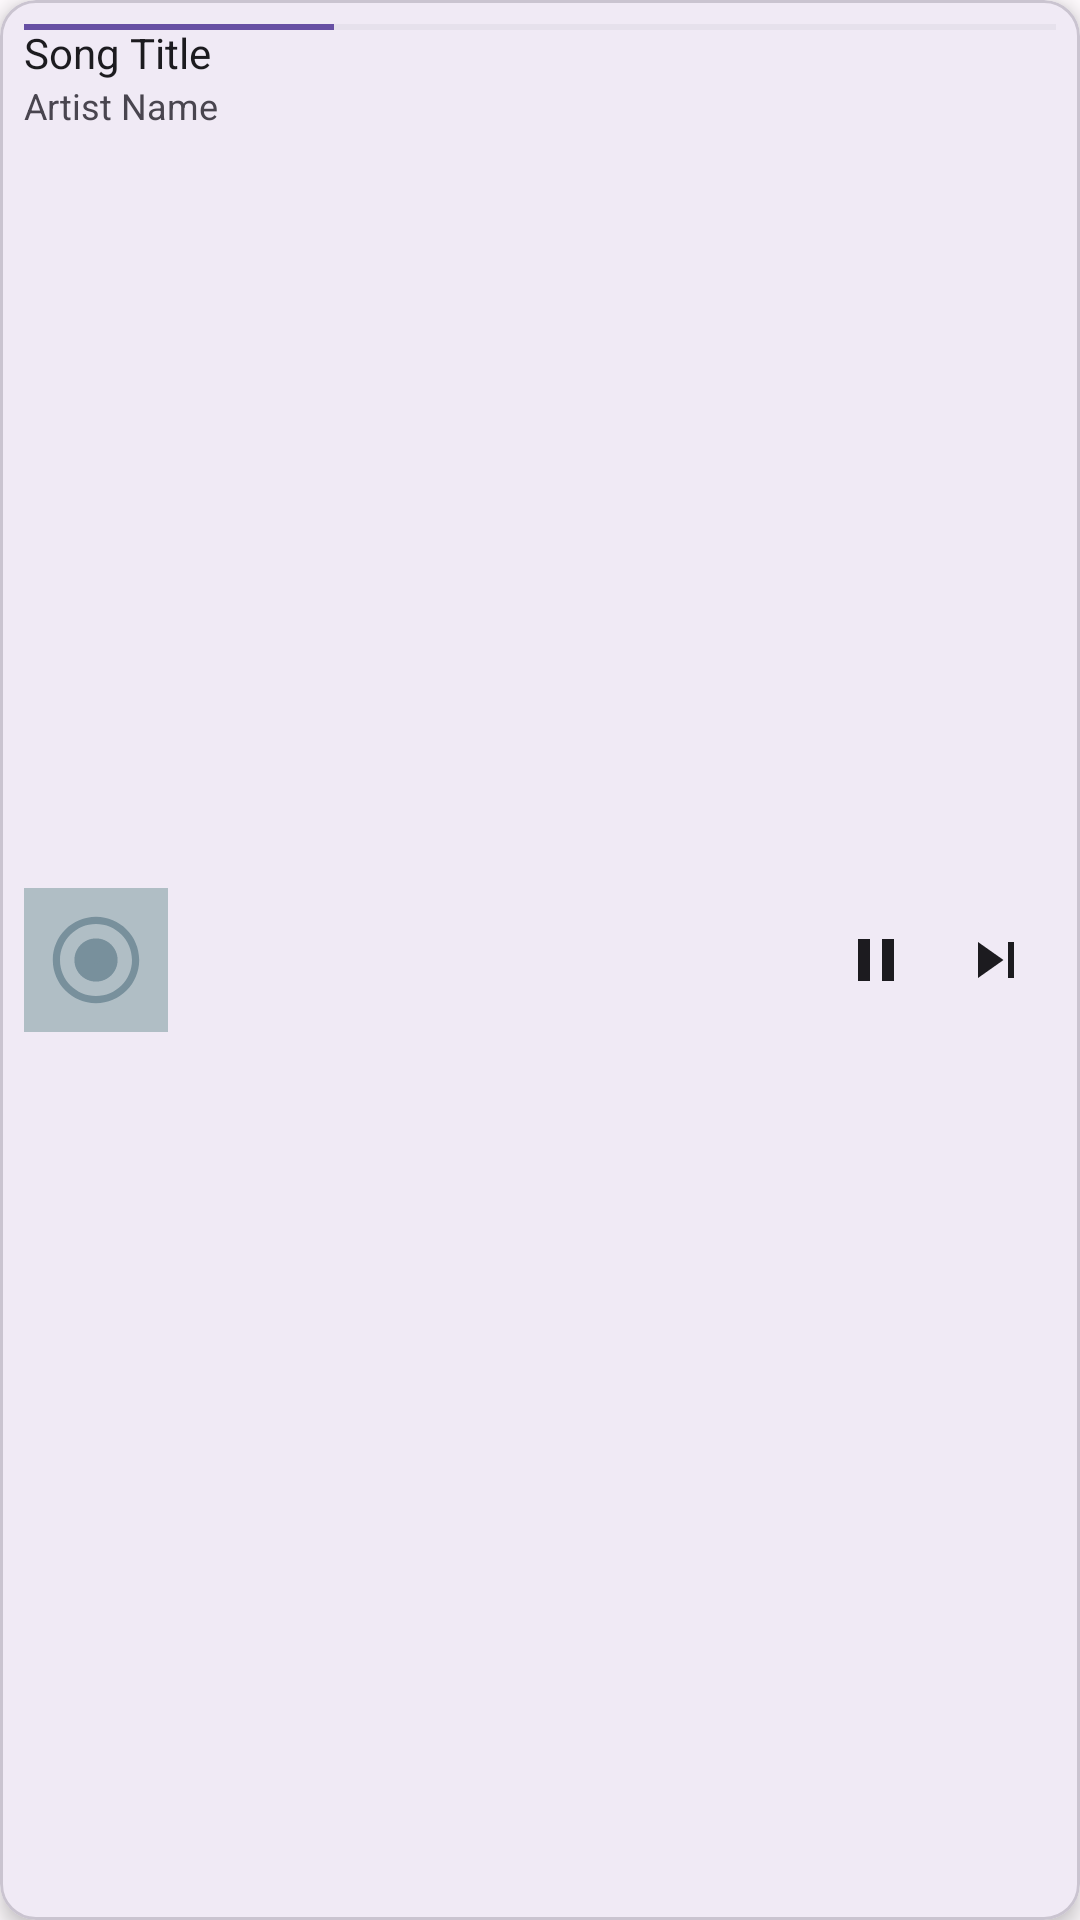

Named icons in this screenshot (1080×1920) and their bounding boxes, (x1, y1, x2, y2):
Next song: (978, 942, 1014, 978)
Play/Pause: (858, 939, 894, 981)
